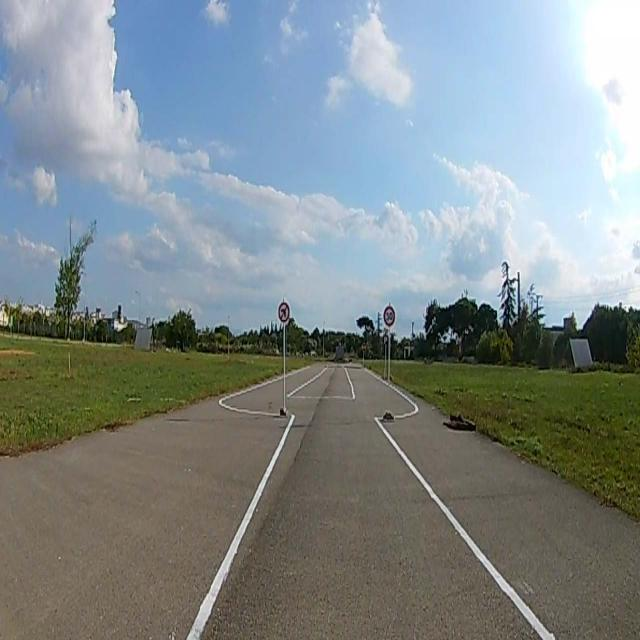30: (384, 306, 396, 326)
soladonulmez: (278, 302, 290, 321)
